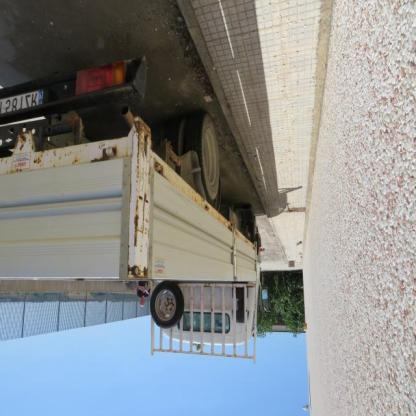truck: (1, 55, 262, 365)
